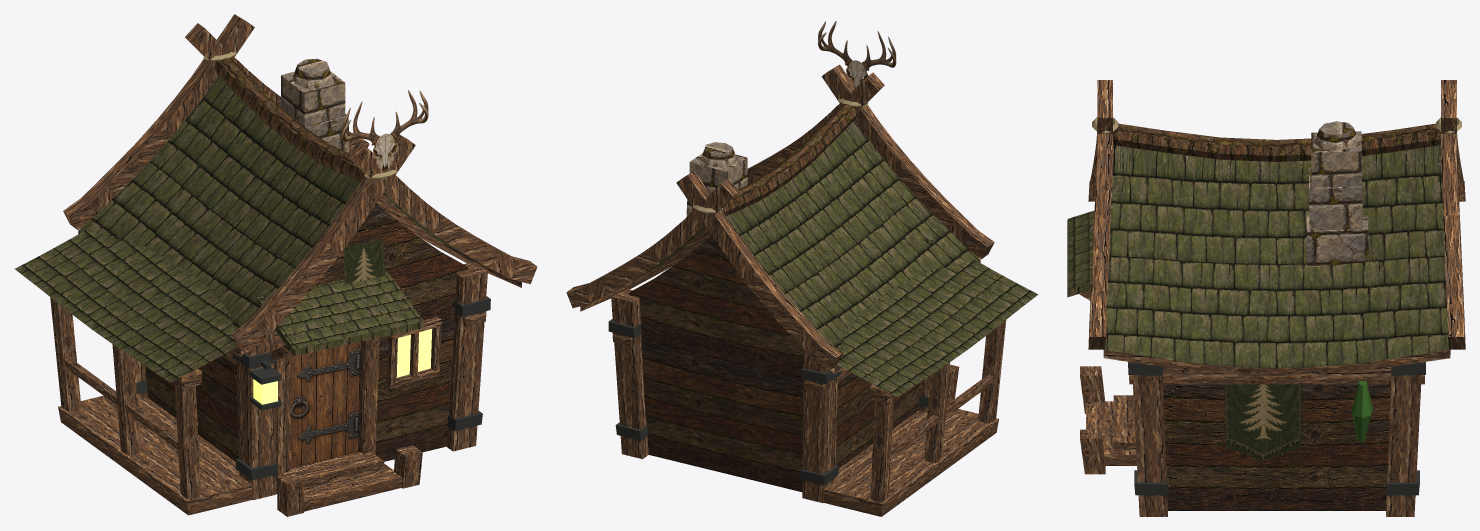
File: house-forest-trail-02.glb
The picture shows the model from 3 angles, left to right: view 1: azimuth 30°, elevation 25°; view 2: azimuth 150°, elevation 25°; view 3: azimuth 270°, elevation 25°; orthographic projection. The views are drawn at different scales.
Parts seen in each view (by area): view 1: roof_-1, porch_roof2, gable_-1, porch_floor, door, porch_roof, barge_-1_-1, barge_1_-1, post_1_-1, side_-1, barge_-1_1, ridge (+22 smaller); view 2: gable_1, roof_-1, porch_roof2, porch_floor, barge_1_-1, barge_-1_-1, post_1_1, barge_1_1, post_-1_1, side_-1, ridge, porch_post_0.97 (+10 smaller); view 3: roof_1, side_1, chimney, ridge, banner, barge_1_1, barge_-1_1, post_1_1, post_1_-1, roof_edge_1, plate_1, porch_roof (+10 smaller).
Boxes of the visible parts, <box> form: roof_-1: <box>78,76,360,347</box>; porch_roof2: <box>15,230,237,382</box>; gable_-1: <box>315,203,468,461</box>; porch_floor: <box>58,395,252,515</box>; door: <box>290,341,361,467</box>; porch_roof: <box>257,270,424,355</box>; barge_-1_-1: <box>231,134,415,353</box>; barge_1_-1: <box>63,14,254,229</box>; post_1_-1: <box>446,261,487,451</box>; side_-1: <box>145,355,238,461</box>; barge_-1_1: <box>346,141,537,284</box>; ridge: <box>214,57,364,182</box>; gable_1: <box>628,235,803,491</box>; roof_-1: <box>726,120,980,365</box>; porch_roof2: <box>837,260,1038,396</box>; porch_floor: <box>823,409,998,516</box>; barge_1_-1: <box>676,171,842,370</box>; barge_-1_-1: <box>821,64,994,259</box>; post_1_1: <box>611,288,648,459</box>; barge_1_1: <box>566,179,739,308</box>; post_-1_1: <box>802,349,837,502</box>; side_-1: <box>836,373,920,468</box>; ridge: <box>722,103,858,216</box>; porch_post_0.97: <box>870,398,893,502</box>; roof_1: <box>1104,145,1450,368</box>; side_1: <box>1163,384,1390,510</box>; chimney: <box>1306,131,1369,266</box>; ridge: <box>1113,123,1440,161</box>; banner: <box>1224,384,1301,460</box>; barge_1_1: <box>1441,80,1465,349</box>; barge_-1_1: <box>1088,80,1112,349</box>; post_1_1: <box>1386,375,1421,516</box>; post_1_-1: <box>1132,375,1167,516</box>; roof_edge_1: <box>1103,350,1450,376</box>; plate_1: <box>1129,367,1424,384</box>; porch_roof: <box>1067,210,1094,297</box>.
Size of the model in its own units: 3.4 by 3.59 by 3.07.
13 materials, 9 textured.
